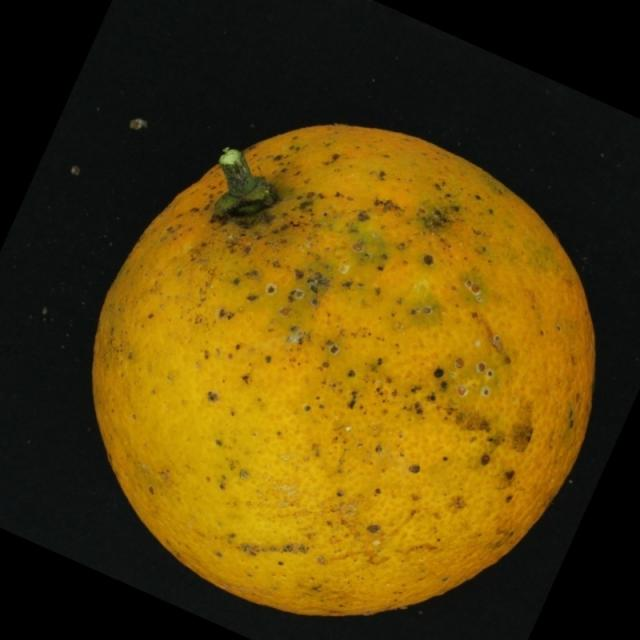grenning: (66, 112, 612, 629)
